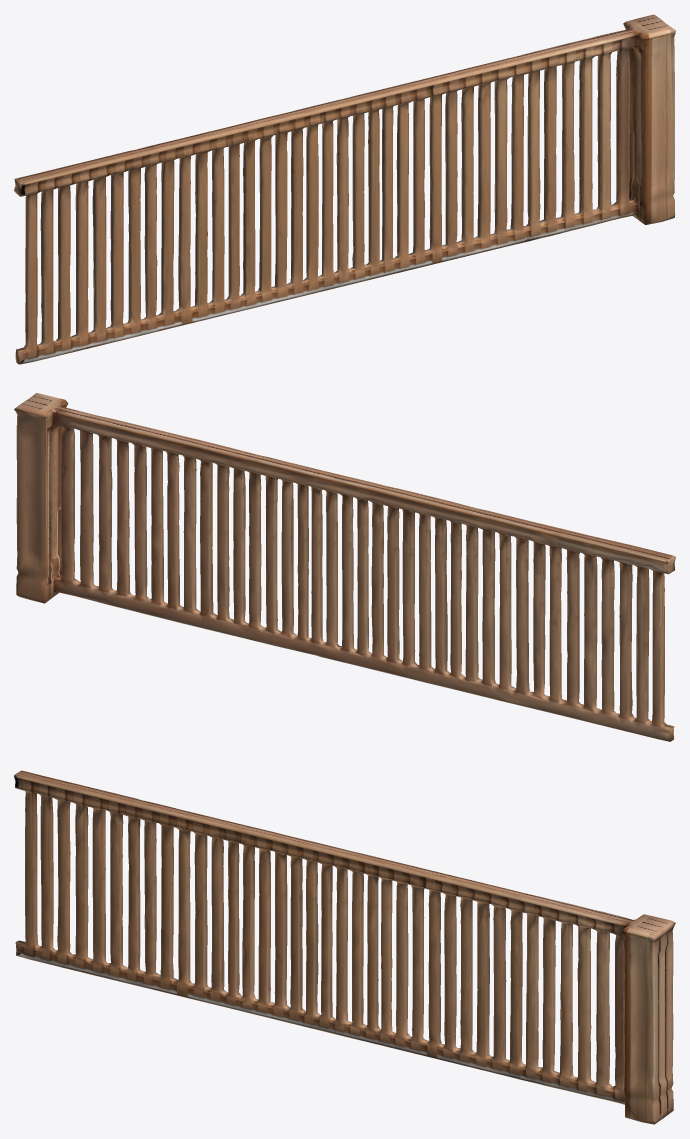
Rendered from A_light_brown_wooden__1120114525_texture.fbx.
3 views of the same model, one above another, from view 1: azimuth 30°, elevation 25°; view 2: azimuth 150°, elevation 25°; view 3: azimuth 330°, elevation 25° (orthographic).
Parts seen in each view (by area): view 1: Mesh1.0; view 2: Mesh1.0; view 3: Mesh1.0.
Boxes of the visible parts, box(x1,y1,x2,y2) form: Mesh1.0: box(14, 14, 675, 364); Mesh1.0: box(14, 393, 675, 741); Mesh1.0: box(14, 770, 675, 1124).
Size of the model in its own units: 201 by 56.6 by 11.69.
1 material, 1 textured.
